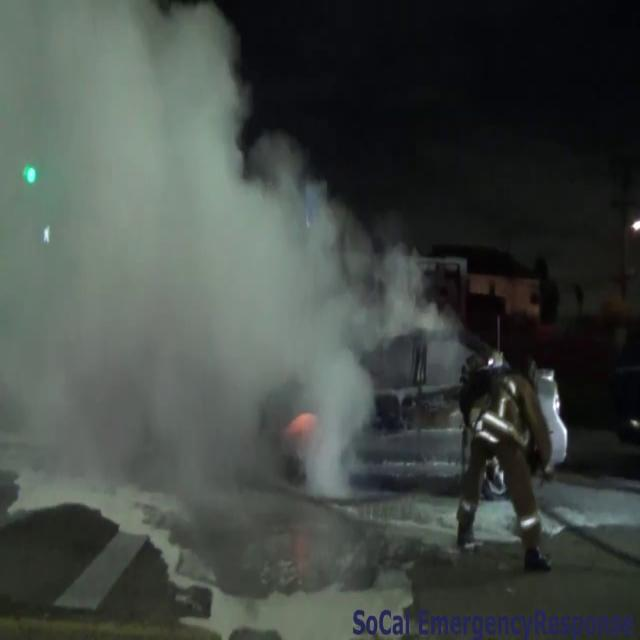Smoke: (0, 0, 450, 634)
